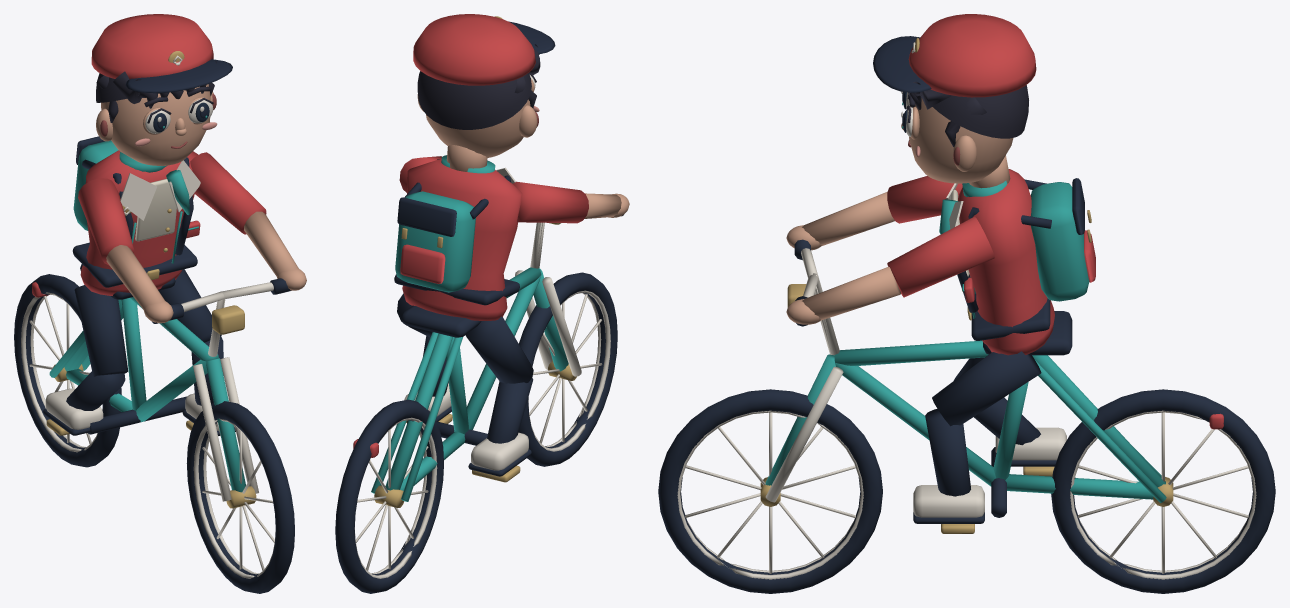
File: player_bicycle.glb
3 views of the same model, side by side, from view 1: azimuth 30°, elevation 25°; view 2: azimuth 150°, elevation 25°; view 3: azimuth 270°, elevation 25° (orthographic). The views are drawn at different scales.
Parts seen in each view (by area): view 1: head, bicycleFrame, body, riderArms, frontWheel, rearWheel, leftThigh, leftShoe, rightThigh, leftShin, rightShoe, rightShin; view 2: body, head, bicycleFrame, rearWheel, frontWheel, riderArms, leftThigh, leftShoe, leftShin, rightShoe; view 3: head, body, bicycleFrame, frontWheel, rearWheel, riderArms, rightThigh, rightShoe, rightShin, leftShoe, leftShin.
Part boxes in pixels (left/top/right/bottom): head: left=91, top=14, right=232, bottom=165; bicycleFrame: left=32, top=264, right=291, bottom=501; body: left=72, top=136, right=200, bottom=295; riderArms: left=78, top=152, right=306, bottom=323; frontWheel: left=186, top=401, right=294, bottom=593; rearWheel: left=14, top=274, right=121, bottom=467; leftThigh: left=74, top=285, right=128, bottom=376; leftShoe: left=43, top=388, right=103, bottom=435; rightThigh: left=159, top=269, right=221, bottom=342; leftShin: left=66, top=371, right=125, bottom=410; rightShoe: left=182, top=393, right=235, bottom=435; rightShin: left=191, top=336, right=223, bottom=405; body: left=394, top=145, right=522, bottom=320; head: left=413, top=14, right=555, bottom=157; bicycleFrame: left=353, top=214, right=623, bottom=501; rearWheel: left=335, top=399, right=443, bottom=593; frontWheel: left=518, top=272, right=617, bottom=466; riderArms: left=399, top=156, right=629, bottom=223; leftThigh: left=465, top=316, right=533, bottom=383; leftShoe: left=468, top=432, right=531, bottom=482; leftShin: left=487, top=378, right=533, bottom=443; rightShoe: left=404, top=383, right=452, bottom=423; head: left=873, top=14, right=1036, bottom=183; body: left=939, top=155, right=1095, bottom=355; bicycleFrame: left=765, top=239, right=1223, bottom=517; frontWheel: left=658, top=389, right=882, bottom=593; rearWheel: left=1051, top=389, right=1275, bottom=593; riderArms: left=786, top=176, right=994, bottom=324; rightThigh: left=932, top=351, right=1041, bottom=426; rightShoe: left=913, top=485, right=984, bottom=533; rightShin: left=925, top=409, right=970, bottom=496; leftShoe: left=995, top=427, right=1066, bottom=476; leftShin: left=974, top=397, right=1040, bottom=445.
Bounding box in the file's own units: 0.6039 × 1.75 × 1.73.
